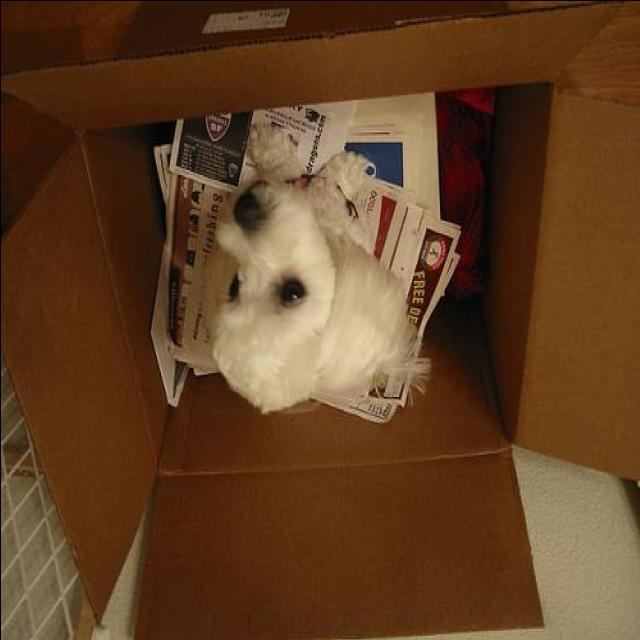maltese_dog: (212, 121, 432, 413)
